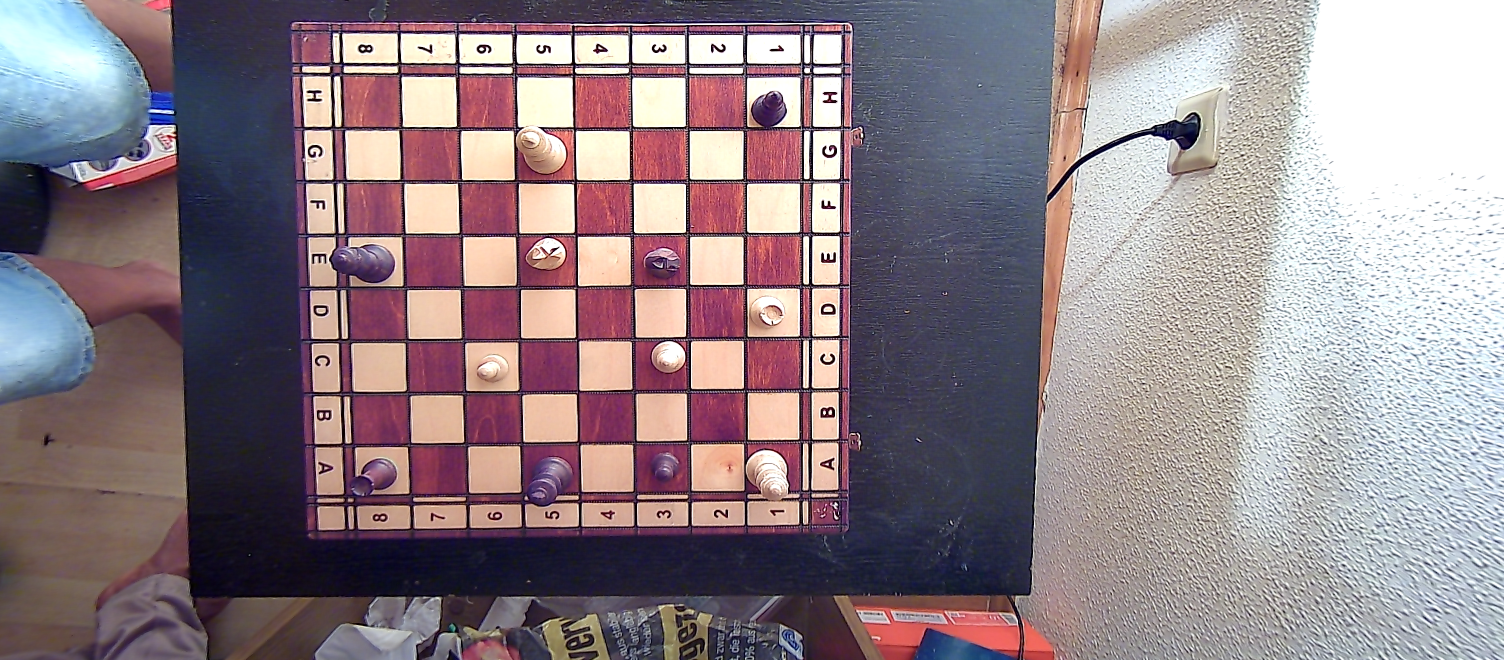black-bishop: (751, 88, 791, 128)
black-king: (525, 456, 571, 506)
black-knight: (641, 244, 684, 283)
black-pawn: (647, 447, 683, 484)
black-queen: (327, 241, 397, 282)
black-rook: (349, 458, 400, 498)
white-bishop: (648, 341, 685, 378)
white-king: (514, 123, 568, 176)
white-knight: (522, 235, 571, 275)
white-pawn: (476, 350, 510, 384)
white-queen: (747, 442, 792, 501)
white-rook: (747, 290, 787, 333)
